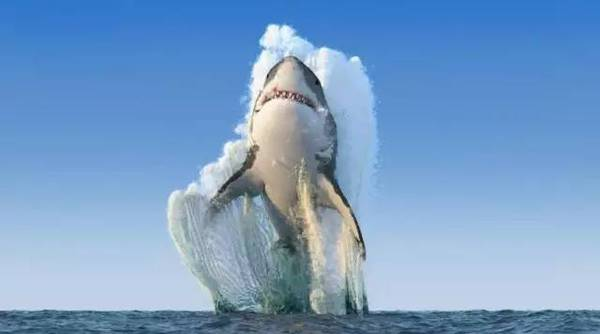fish: (190, 49, 378, 315)
